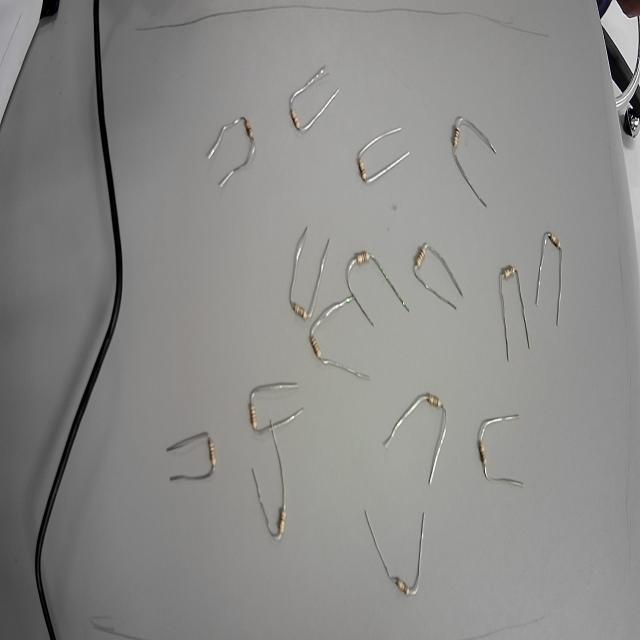resistor: (378, 555, 436, 613), (188, 416, 225, 494), (469, 415, 500, 500), (225, 103, 262, 174), (348, 134, 383, 206), (440, 106, 472, 184), (271, 81, 305, 153), (531, 215, 573, 273), (238, 382, 270, 440), (346, 235, 382, 282), (421, 371, 453, 423), (492, 249, 526, 297), (406, 222, 430, 286), (302, 313, 326, 375), (270, 494, 294, 549), (286, 288, 311, 328)
